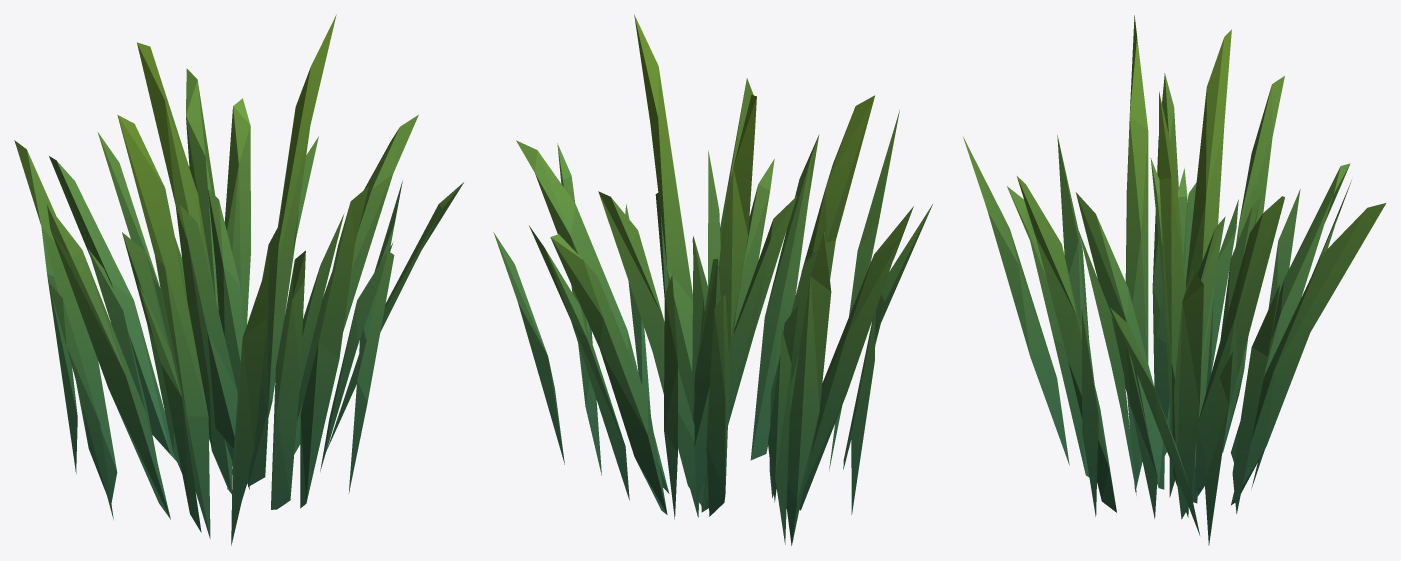
Rendered from ZLP_Grass_A_2.FBX.
3 renders of one model, left to right at view 1: azimuth 30°, elevation 25°; view 2: azimuth 150°, elevation 25°; view 3: azimuth 270°, elevation 25°, orthographic. The views are drawn at different scales.
Parts seen in each view (by area): view 1: ZLP_Grass_A_2; view 2: ZLP_Grass_A_2; view 3: ZLP_Grass_A_2.
Part boxes in pixels (bbox=[...]): ZLP_Grass_A_2: bbox=[14, 14, 463, 545]; ZLP_Grass_A_2: bbox=[493, 14, 932, 545]; ZLP_Grass_A_2: bbox=[963, 15, 1386, 545].
Size of the model in its own units: 101 by 119 by 97.97.
